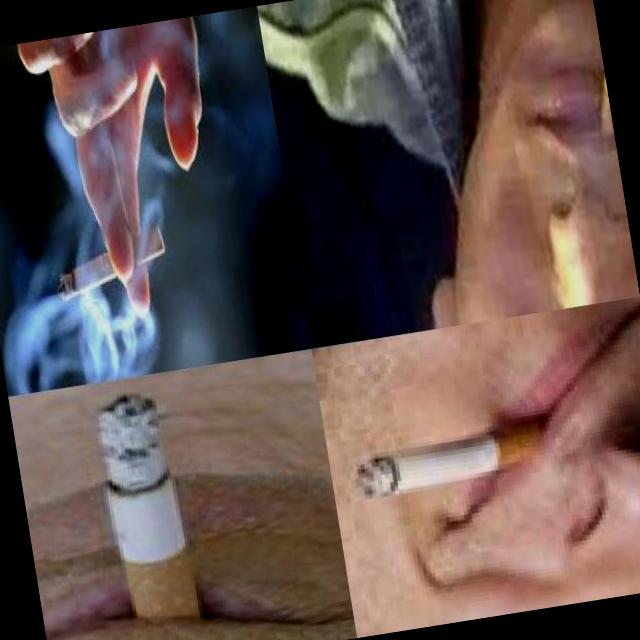smoke: (93, 387, 205, 640), (347, 416, 558, 506), (49, 224, 171, 304), (572, 0, 615, 150)
